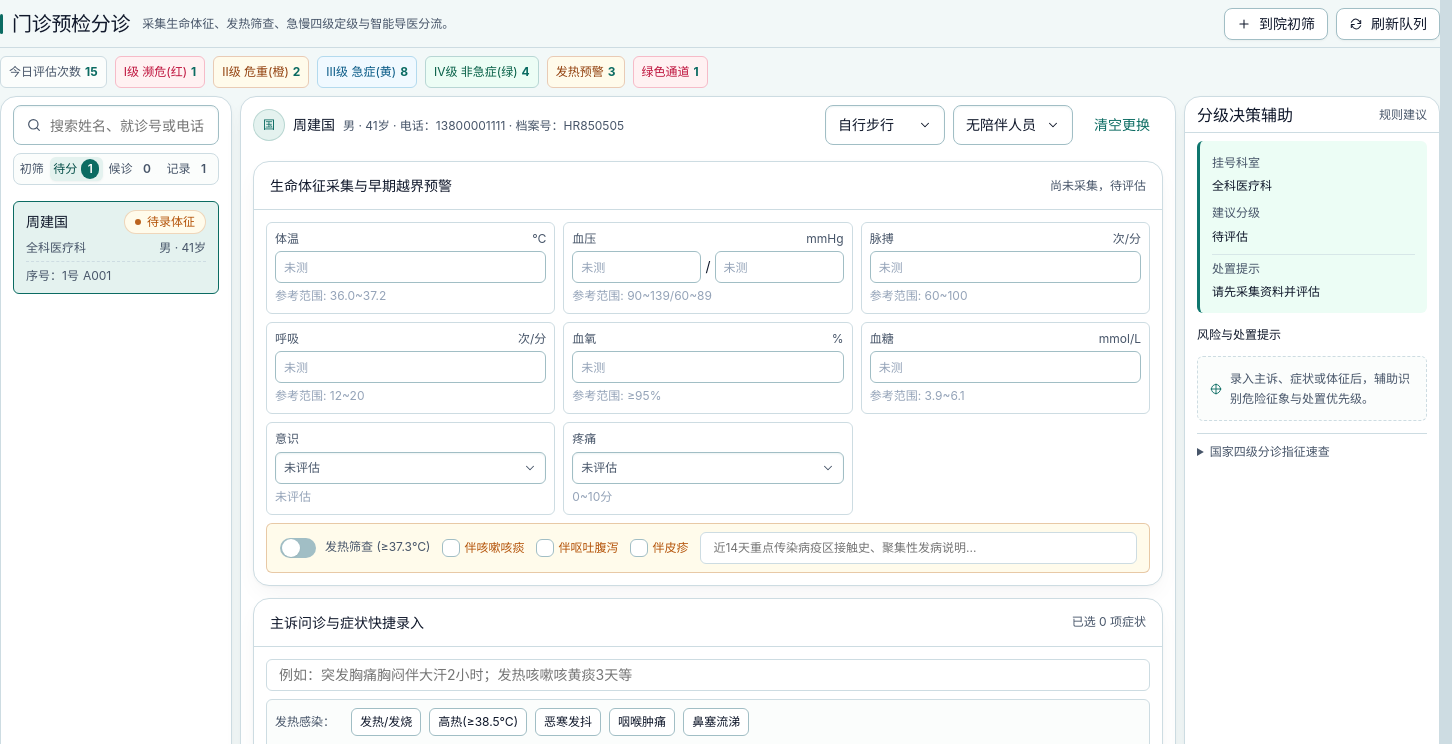
Test: OutpatientTriageWorkspace › 到院初筛未调入患者时应显示骨架占位，并统一顶部操作控件规格
The image size is (1452, 744).
What coordinates should you click on to do the following:
click the tab named "到院初筛"
I would click on:
 (32, 169)
Its box is 16,157 -> 48,181.
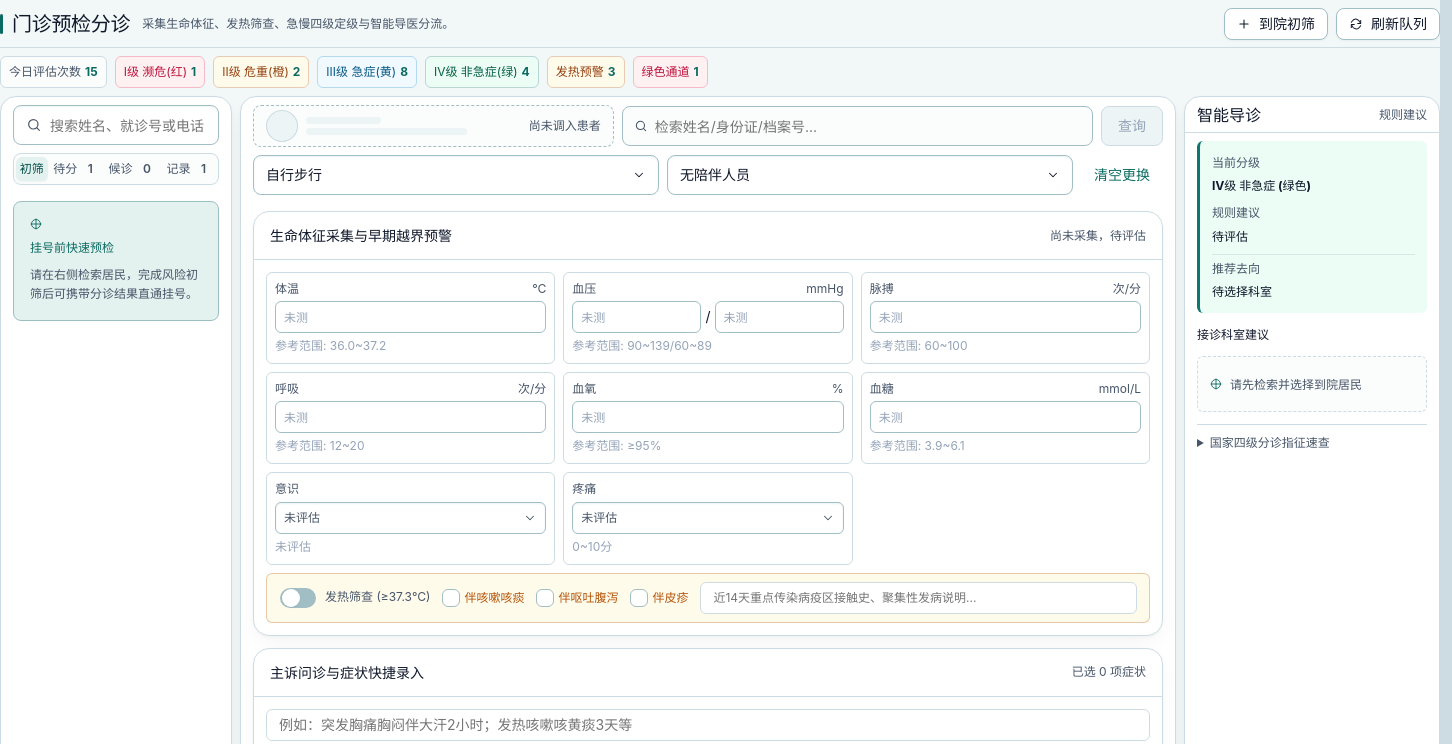
Expected: the dropdown named "到院方式" is shown, 253,155 -> 659,195
Expected: the message "尚未调入患者" is shown, 253,105 -> 614,147
